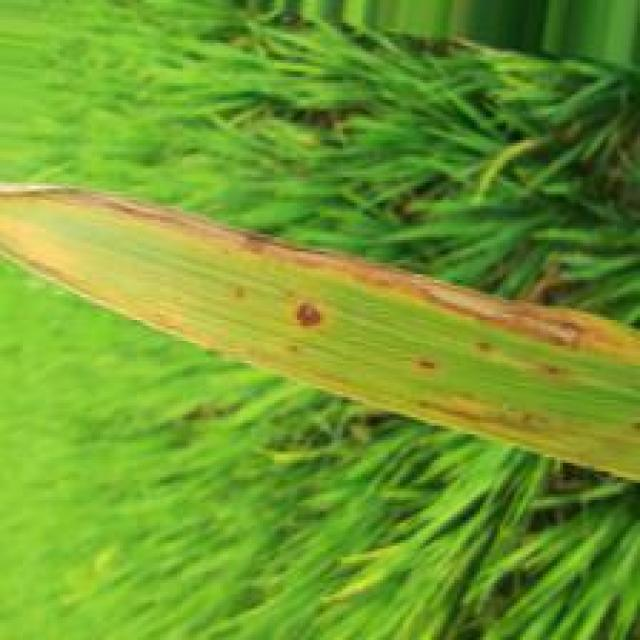Leaf_Blast: (77, 191, 627, 351), (414, 391, 569, 448), (287, 294, 332, 336)
